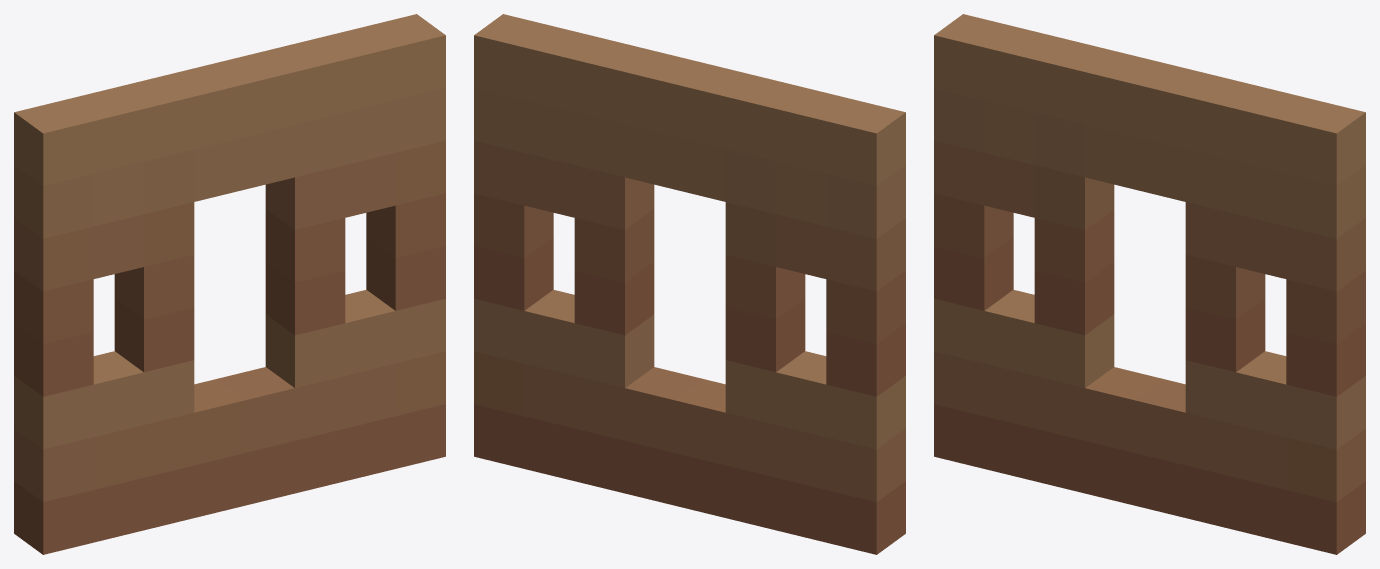
File: Elm Trapdoor.glb
3 views of the same model, side by side, from view 1: azimuth 30°, elevation 25°; view 2: azimuth 150°, elevation 25°; view 3: azimuth 330°, elevation 25° (orthographic).
Visible parts, largest first — view 1: generated(Clone); view 2: generated(Clone); view 3: generated(Clone).
Boxes of the visible parts, left/top/right/bottom form: generated(Clone): left=14, top=14, right=445, bottom=554; generated(Clone): left=474, top=14, right=905, bottom=554; generated(Clone): left=934, top=14, right=1365, bottom=554.
Bounding box in the file's own units: 8 × 8 × 1.
1 material, 1 textured.
